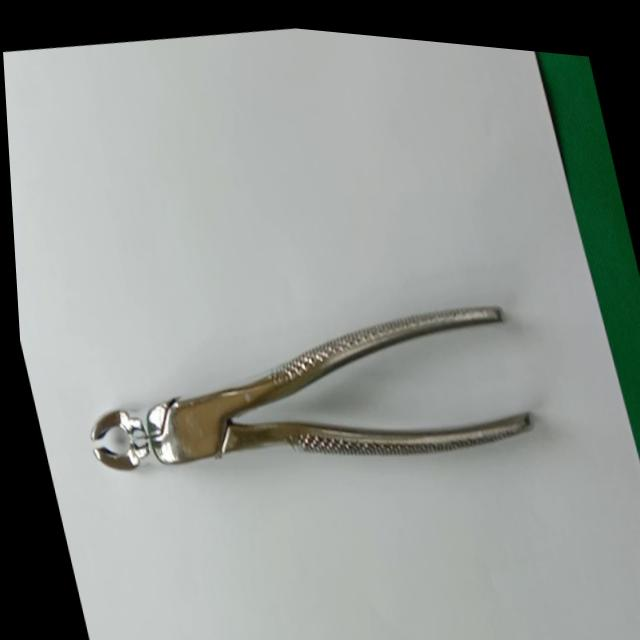BayonetForcep: (52, 251, 544, 524)
